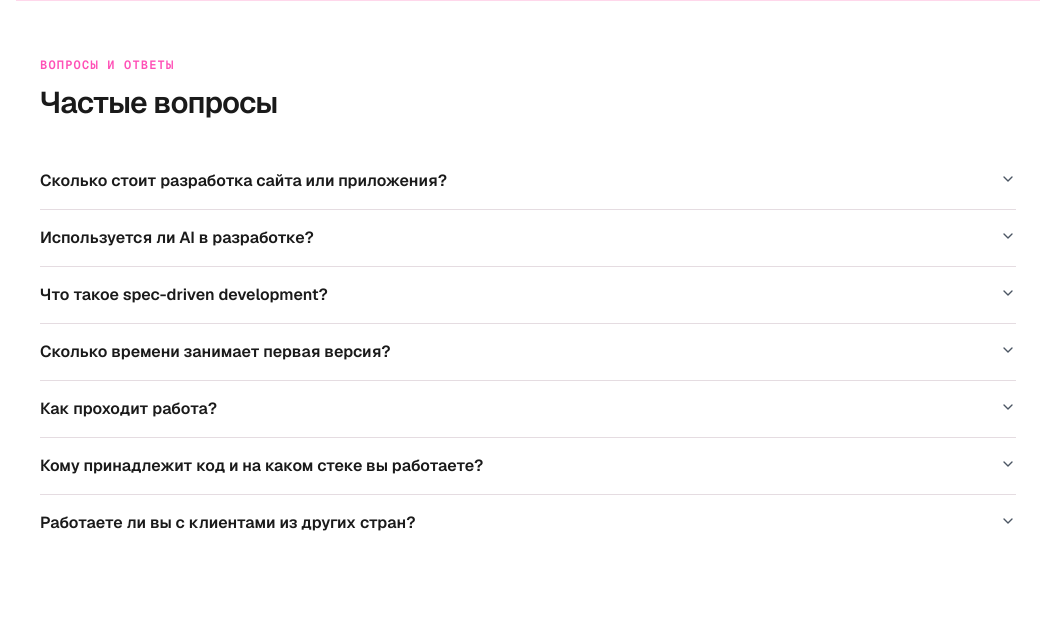
FaqSection › expands an item on click and shows its answer
Click the button "Сколько стоит разработка сайта или приложения?": {"x": 244, "y": 180} [40,153,1016,209]
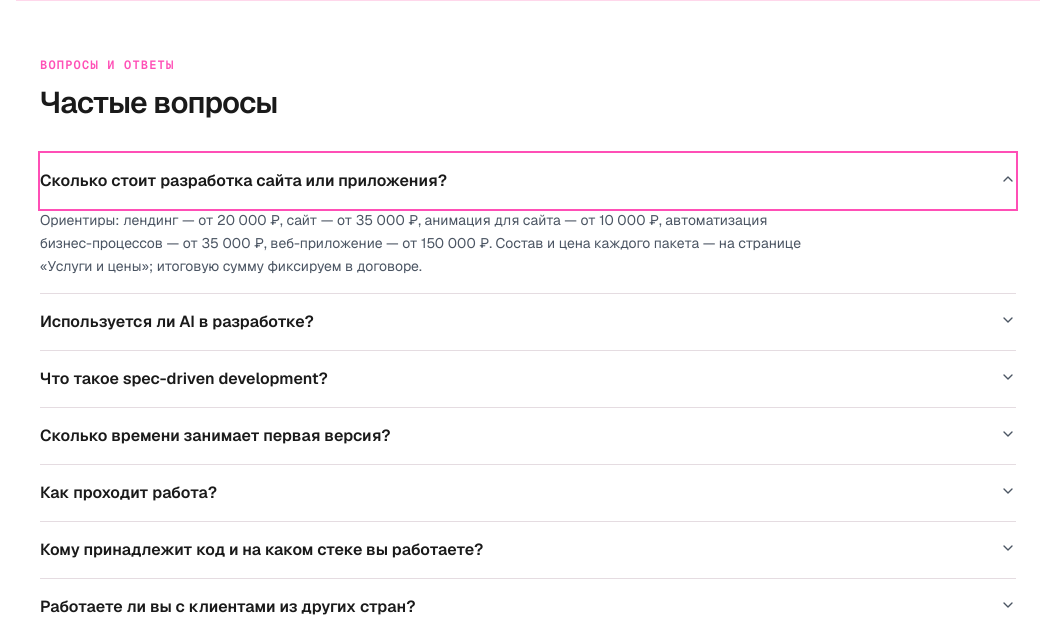
Check: the text "Ориентиры: лендинг — от 20 000 ₽, сайт — от 35 000 ₽, анимация для сайта — от 10 000 ₽, автоматизация бизнес-процессов —" is shown, box [40,211,801,274]
